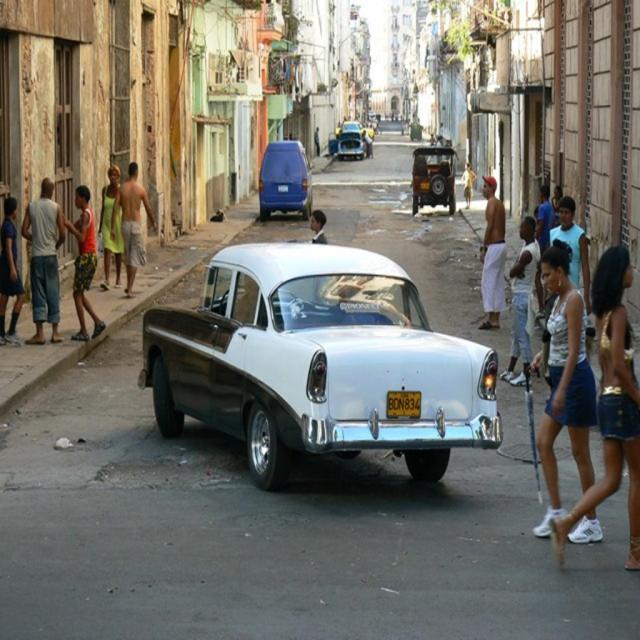car: (140, 233, 500, 492), (255, 137, 313, 216), (410, 147, 459, 212)
